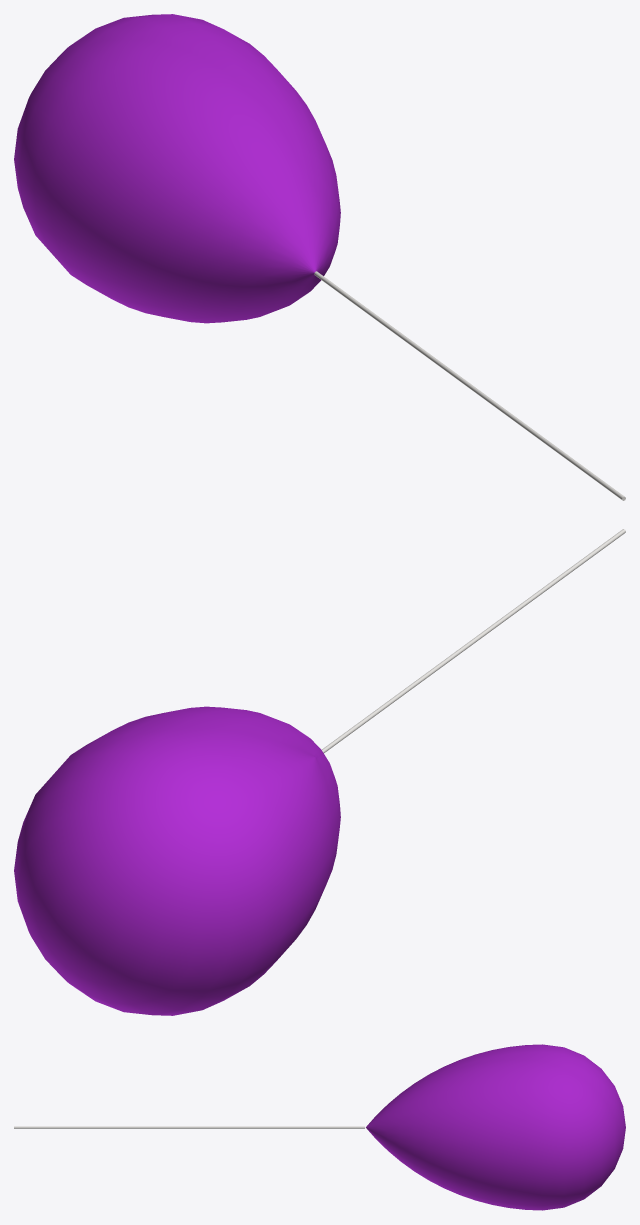
Rendered from balloon.dae.
3 views of the same model, one above another, from view 1: azimuth 30°, elevation 25°; view 2: azimuth 150°, elevation 25°; view 3: azimuth 270°, elevation 25° (orthographic). The views are drawn at different scales.
Parts seen in each view (by area): view 1: SketchUp, group_0; view 2: SketchUp, group_0; view 3: SketchUp, group_0.
Part boxes in pixels (x1,y1,x2,y2): SketchUp: (14, 14, 340, 323); group_0: (314, 271, 625, 500); SketchUp: (14, 706, 340, 1015); group_0: (322, 529, 625, 753); SketchUp: (366, 1044, 625, 1210); group_0: (14, 1126, 364, 1128).
Size of the model in its own units: 102 by 376 by 102.
